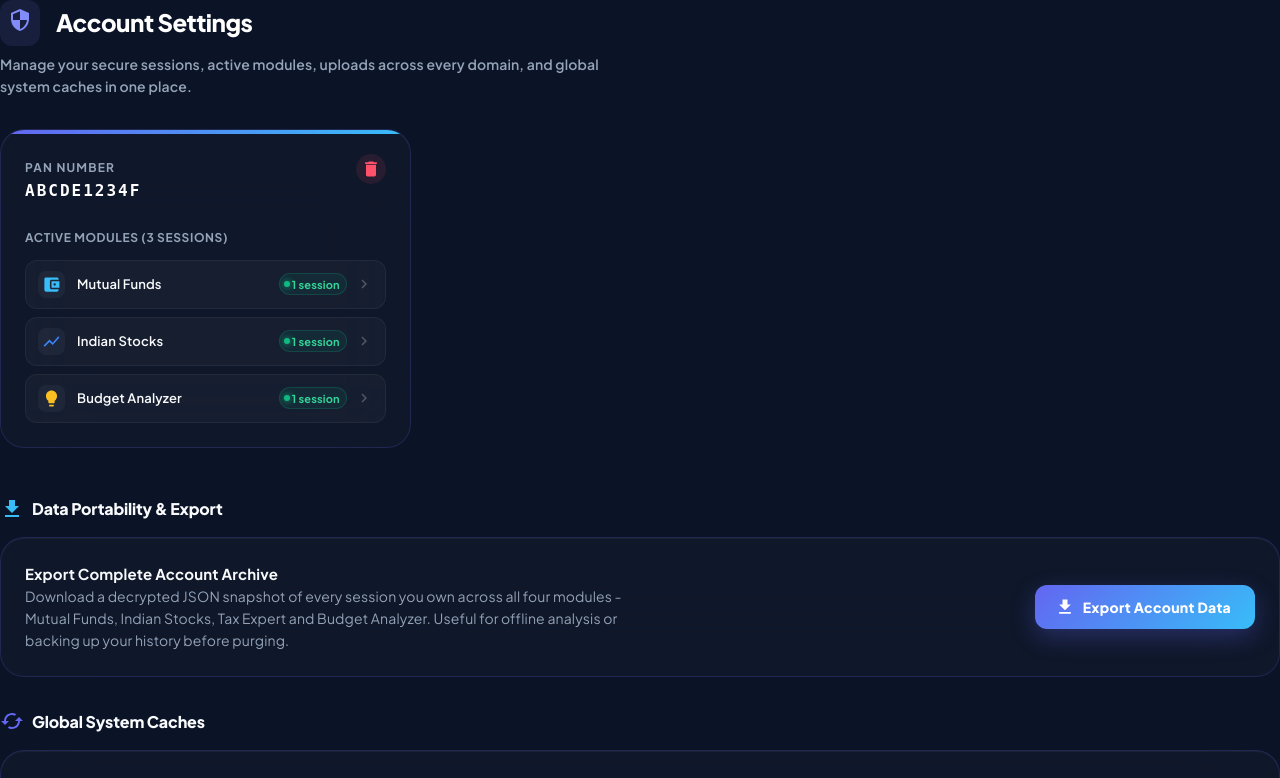
Test case: AccountsDashboard › surfaces export and cache errors via snackbar
Expected: the heading "Account Settings" is shown, [56,8,252,38]
Click the button "Export Account Data". click: click(1145, 607)
box: [1035,585,1255,629]
(page scrolled)
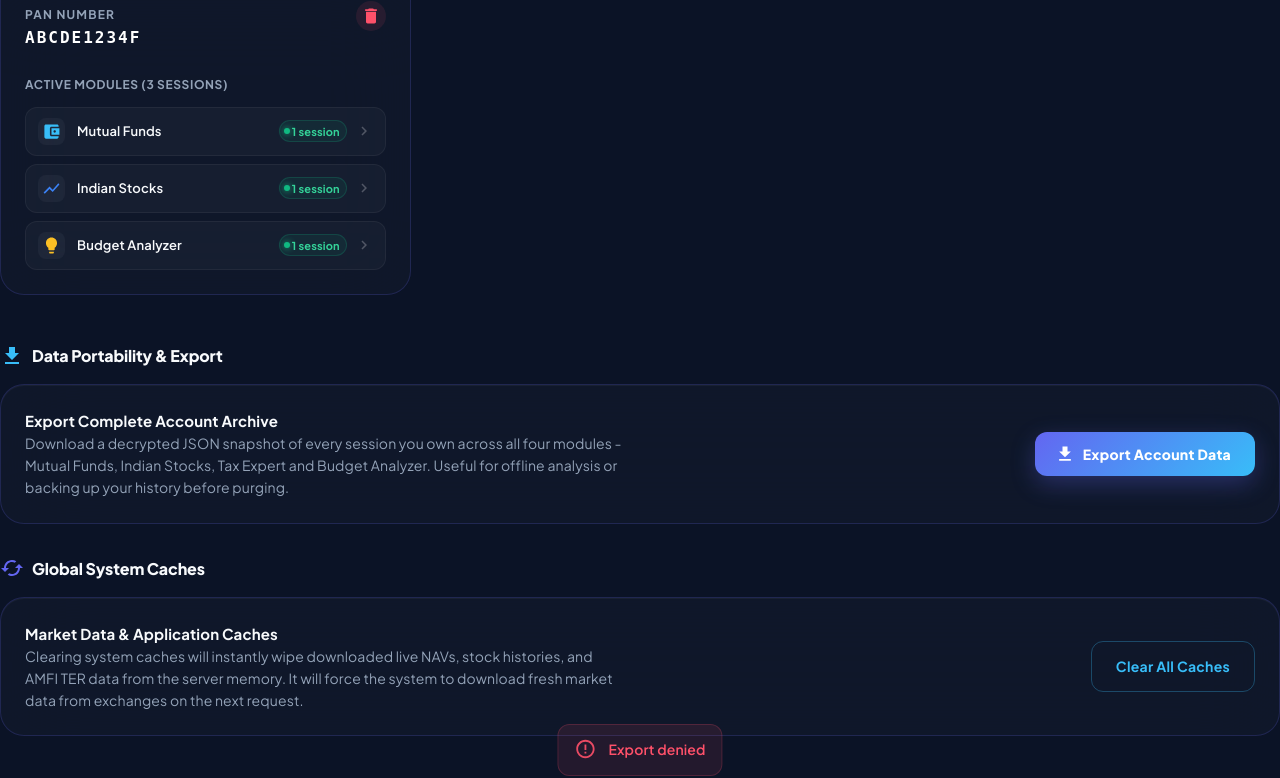
Expected: the text "Export denied" is shown, [608,740,706,758]
Click the button "Clear All Caches". click: click(1173, 667)
box: [1091,641,1255,692]
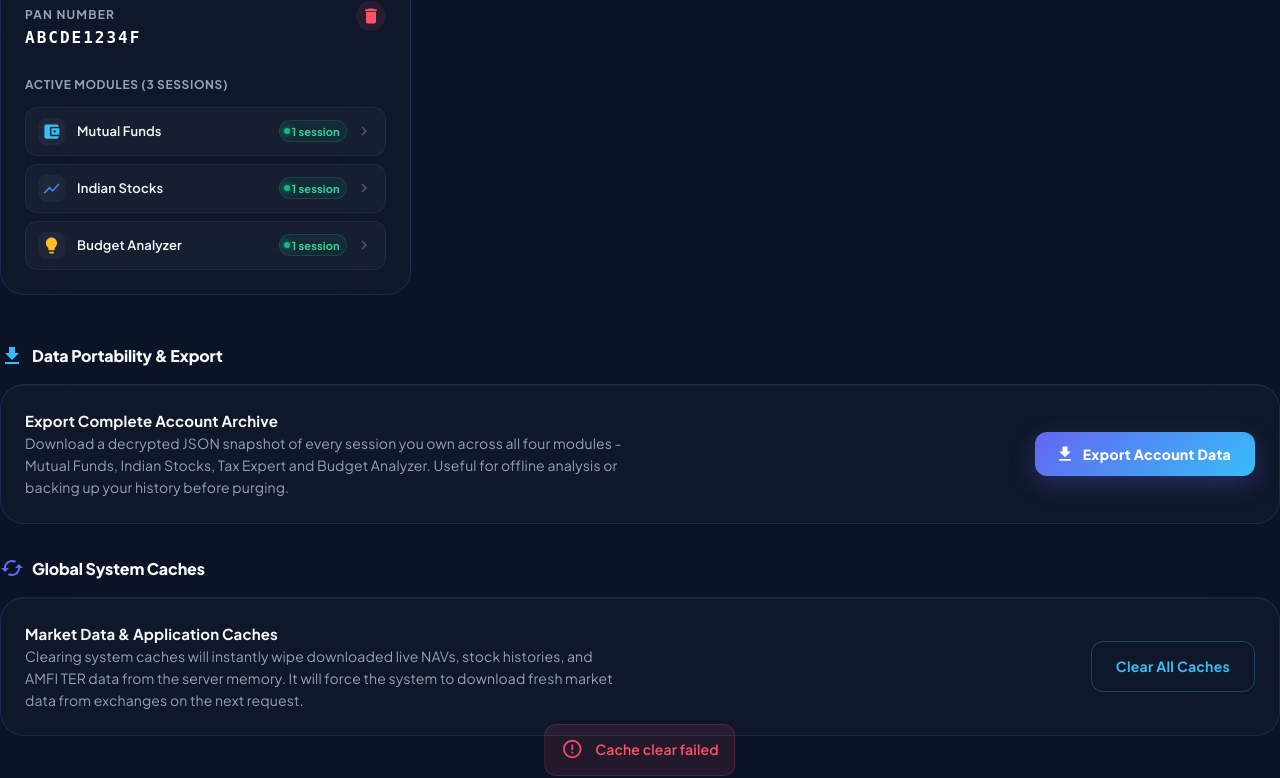
Expected: the text "Cache clear failed" is shown, [595,740,719,758]
